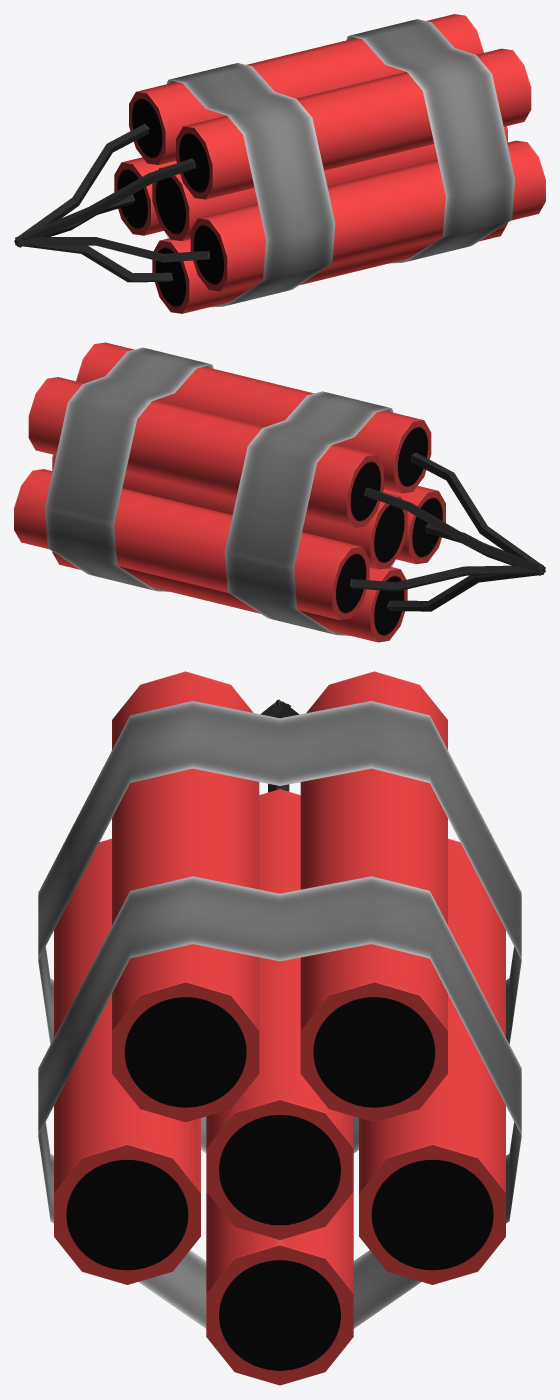
File: static.glb
3 renders of one model, top to bottom at view 1: azimuth 30°, elevation 25°; view 2: azimuth 150°, elevation 25°; view 3: azimuth 270°, elevation 25°, orthographic. The views are drawn at different scales.
Visible parts, largest first — view 1: Extrude, Cylinder_4, Cylinder_5, Cylinder, Cylinder_6, Cylinder_3, Cylinder_2, Sweep_10, Sweep_8, Sweep, Sweep_6, Sweep_4; view 2: Extrude, Cylinder, Cylinder_2, Cylinder_5, Cylinder_6, Cylinder_3, Cylinder_4, Sweep_4, Sweep_10, Sweep, Sweep_6, Sweep_8; view 3: Extrude, Cylinder, Cylinder_5, Cylinder_2, Cylinder_4, Cylinder_6, Cylinder_3.
Boxes of the visible parts, box(x1,y1,x2,y2) form: Extrude: box(165, 19, 515, 307); Cylinder_4: box(190, 140, 545, 291); Cylinder_5: box(176, 48, 531, 199); Cylinder: box(129, 14, 483, 164); Cylinder_6: box(152, 126, 507, 240); Cylinder_3: box(152, 223, 507, 313); Cylinder_2: box(114, 157, 176, 235); Sweep_10: box(15, 158, 195, 247); Sweep_8: box(17, 237, 209, 262); Sweep: box(15, 123, 149, 247); Sweep_6: box(15, 236, 172, 282); Sweep_4: box(14, 194, 135, 246); Extrude: box(45, 347, 395, 635); Cylinder: box(28, 377, 383, 527); Cylinder_2: box(14, 469, 369, 619); Cylinder_5: box(76, 342, 431, 493); Cylinder_6: box(52, 454, 407, 569); Cylinder_3: box(52, 551, 407, 642); Cylinder_4: box(383, 486, 445, 564); Sweep_4: box(350, 565, 542, 591); Sweep_10: box(411, 452, 545, 575); Sweep: box(364, 487, 543, 574); Sweep_6: box(387, 564, 544, 611); Sweep_8: box(425, 523, 545, 575); Extrude: box(38, 701, 521, 1328); Cylinder: box(300, 671, 447, 1122); Cylinder_5: box(112, 671, 259, 1122); Cylinder_2: box(359, 838, 505, 1284); Cylinder_4: box(54, 838, 200, 1284); Cylinder_6: box(206, 789, 353, 1239); Cylinder_3: box(206, 1192, 353, 1385).
Size of the model in its own units: 1.12 by 0.4697 by 0.4956.
Materials: 4 (4 with a texture image).
